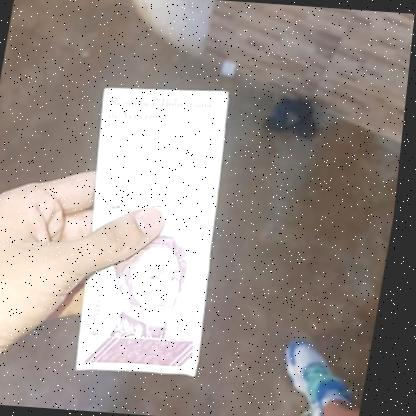one_hundred-front-vef: (63, 86, 249, 378)
